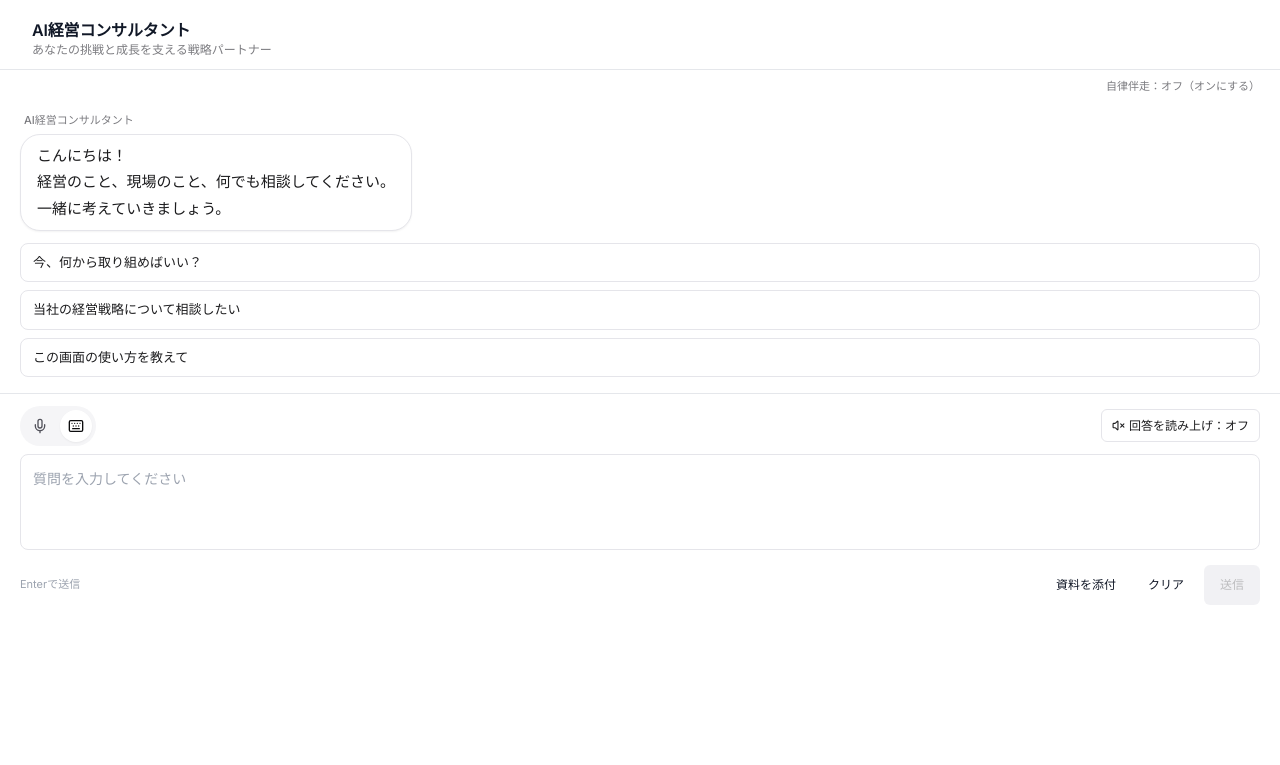
Test case: 自律伴走：経営点検（STAGE5・6）は会社ごとに1日1回 › 事実が0件で問題がなければ、問題なしを示す。点検の処理に失敗したときは、失敗として示す
Later steps or results of the test are not shown.
Expected: the text box is enabled, x1=20 y1=454 x2=1260 y2=550
Click the button "自律伴走：オフ（オンにする）".
click(1183, 87)  # box x1=1106 y1=78 x2=1260 y2=96
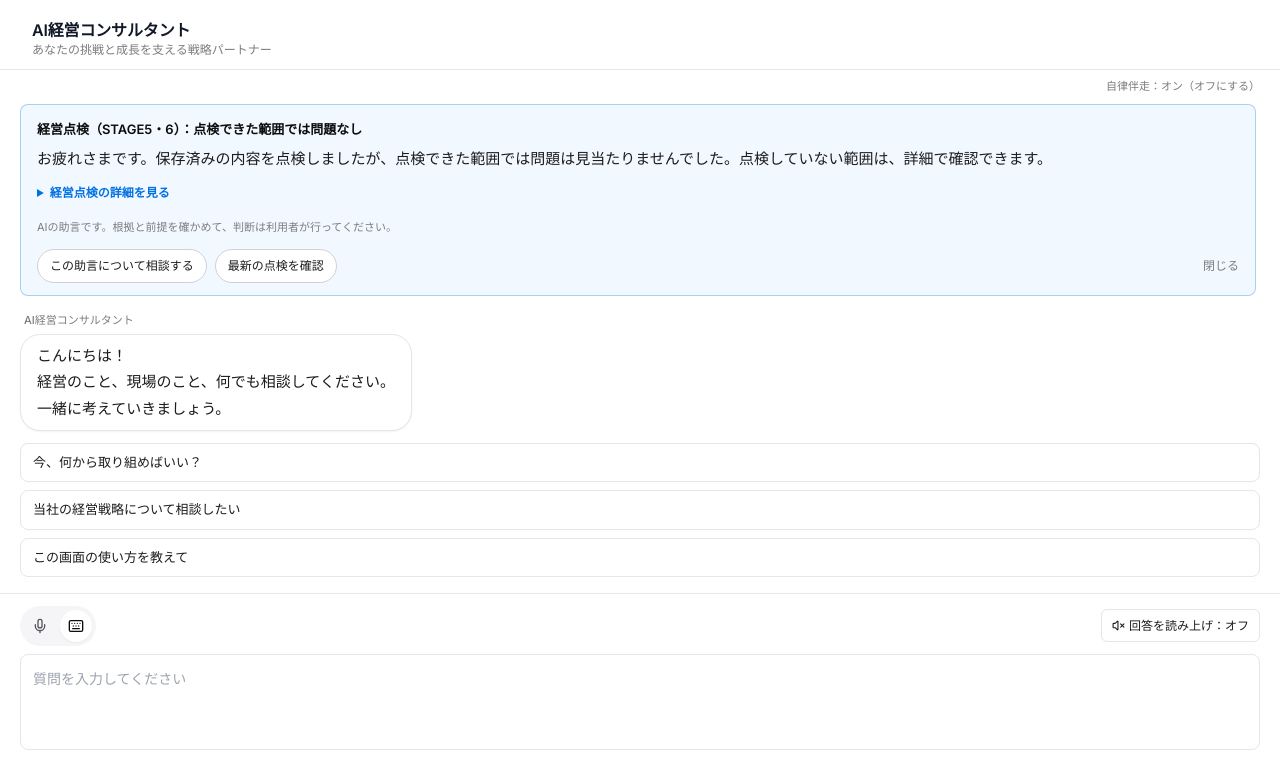
Expected: the element named "AI経営コンサルタントの助言" shows "点検できた範囲では問題なし", x1=37 y1=121 x2=362 y2=137
